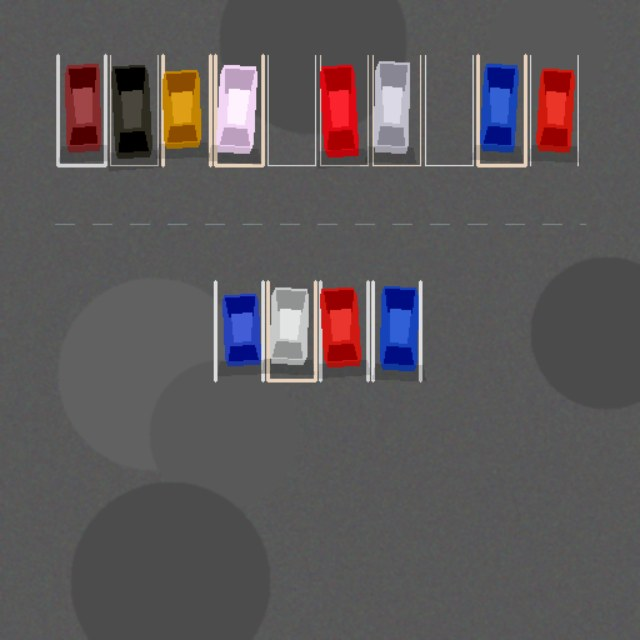space-empty: (267, 55, 315, 165), (425, 55, 473, 165)
space-occupied: (57, 55, 105, 165), (215, 55, 263, 165), (477, 55, 525, 165), (110, 55, 157, 165), (163, 55, 210, 165), (320, 55, 367, 165), (373, 55, 420, 165), (530, 55, 577, 165), (215, 281, 263, 380), (267, 281, 315, 380), (320, 281, 367, 380), (373, 281, 420, 380)
